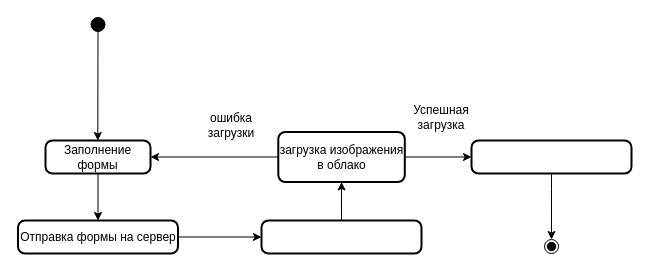
Image size: 650x272. Some labels were removed from this diagram. Each missing label, with the box of its shape:
добавление объекта в базу данных: (470, 139, 632, 174)
Создание объекта объявления: (260, 219, 422, 254)
